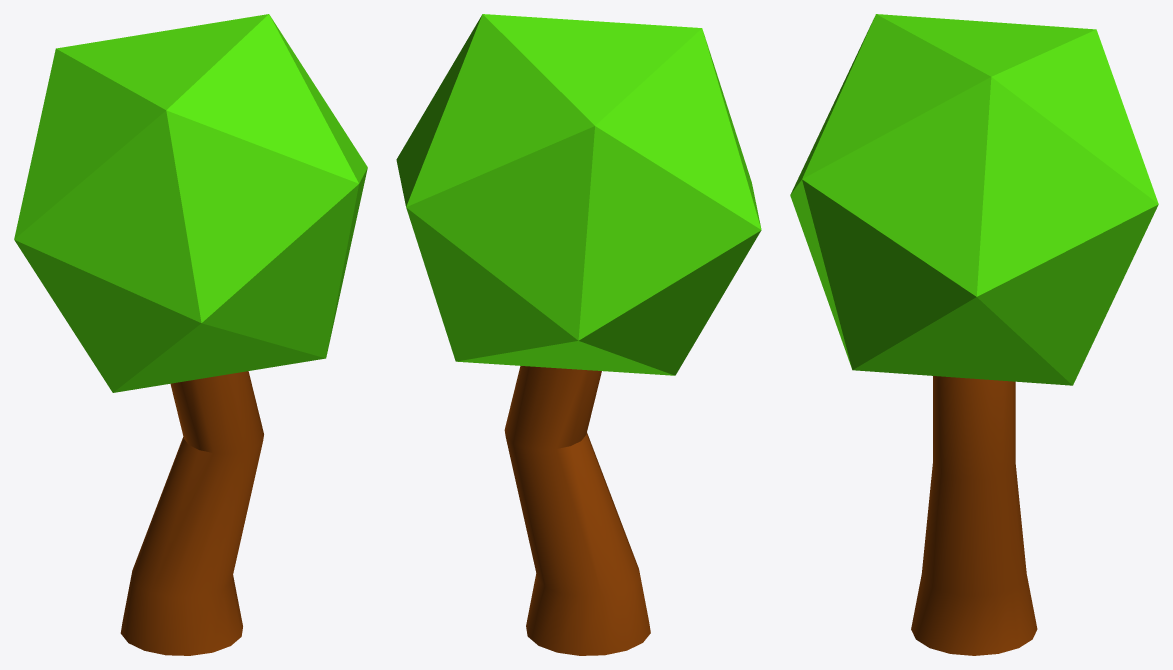
The model's file is lowpolyagac.fbx.
3 renders of one model, left to right at view 1: azimuth 30°, elevation 25°; view 2: azimuth 150°, elevation 25°; view 3: azimuth 270°, elevation 25°, orthographic. The views are drawn at different scales.
Parts seen in each view (by area): view 1: Icosphere; view 2: Icosphere; view 3: Icosphere.
Boxes of the visible parts, box(x1,y1,x2,y2) form: Icosphere: box(14, 14, 367, 655); Icosphere: box(396, 14, 761, 655); Icosphere: box(790, 14, 1158, 655).
Size of the model in its own units: 665 by 1048 by 583.
